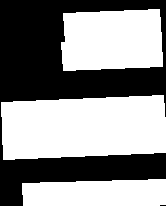parkingspot: (2, 121, 166, 159), (1, 95, 165, 131), (22, 179, 166, 206), (61, 37, 162, 70), (63, 9, 161, 43)
